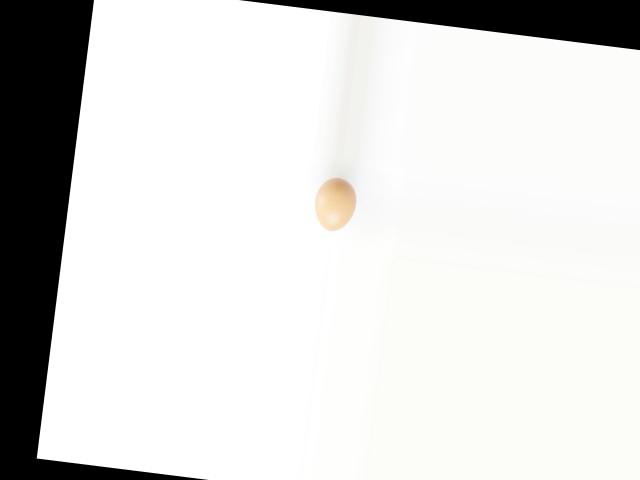egg: (312, 174, 360, 234)
